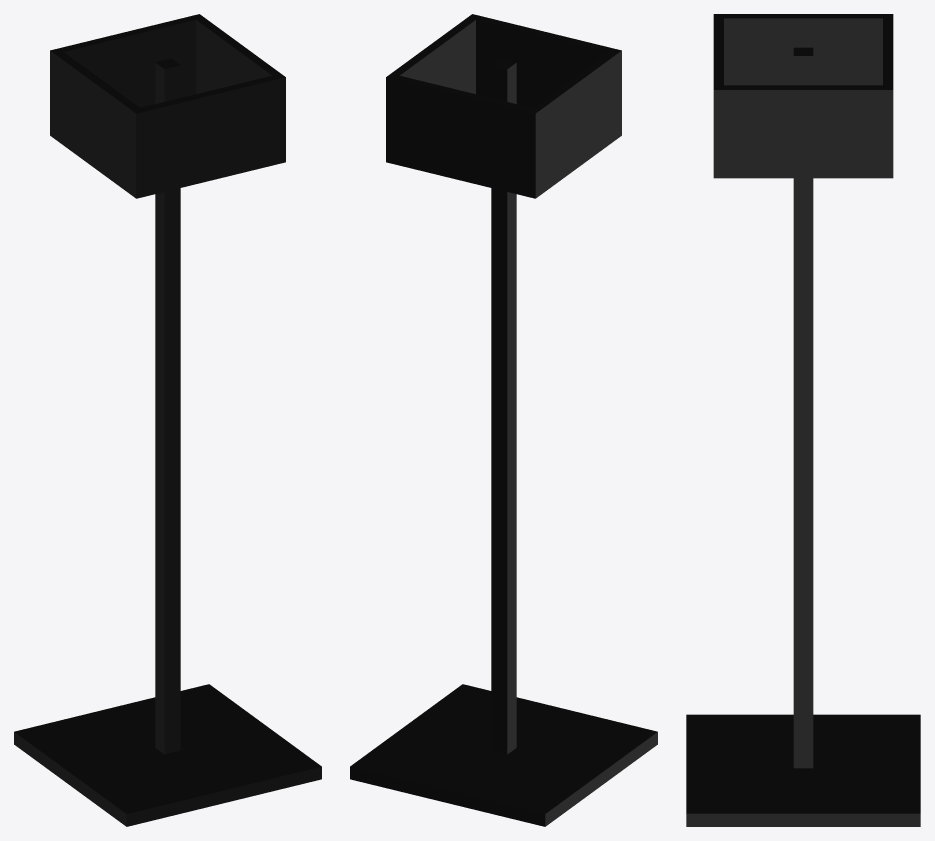
The model's file is lamp.fbx.
3 renders of one model, left to right at view 1: azimuth 30°, elevation 25°; view 2: azimuth 150°, elevation 25°; view 3: azimuth 270°, elevation 25°, orthographic. The views are drawn at different scales.
Parts seen in each view (by area): view 1: cube (×2), tube; view 2: cube (×2), tube; view 3: cube (×2), tube.
Part boxes in pixels (x1=…): cube (×2): x1=14, y1=58, x2=321, y2=826; tube: x1=50, y1=14, x2=285, y2=198; cube (×2): x1=350, y1=58, x2=657, y2=826; tube: x1=386, y1=14, x2=621, y2=198; cube (×2): x1=686, y1=47, x2=920, y2=826; tube: x1=713, y1=14, x2=893, y2=178.
Size of the model in its own units: 3 by 10.25 by 3.
